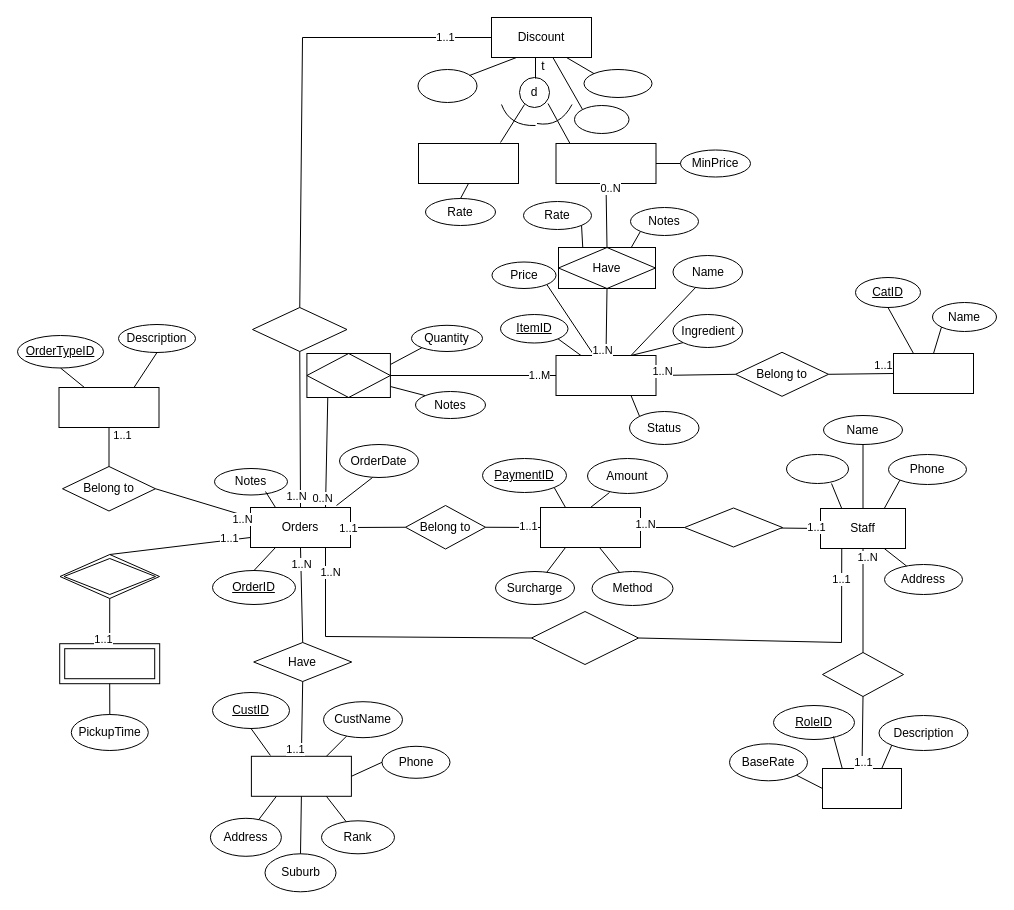
Some shapes in this 1014 by 910 pixel diagram are drawn without their labels. Each missing label, with the box of its shape:
Apply: (252, 306, 347, 352)
BillDiscount: (418, 142, 518, 184)
Booked by: (530, 610, 638, 664)
Category: (892, 352, 974, 394)
Customers: (250, 755, 351, 796)
DFrom: (583, 68, 652, 98)
DisID: (417, 68, 477, 102)
Dto: (574, 104, 629, 134)
Handled by: (684, 507, 782, 547)
has: (822, 652, 904, 696)
Include: (306, 352, 390, 398)
is it a: (59, 554, 160, 598)
ItemDiscount: (555, 142, 656, 184)
MenuItems: (555, 354, 656, 396)
OrderType: (58, 386, 159, 428)
Payment: (540, 506, 640, 548)
PreOrders: (59, 643, 160, 684)
Role: (822, 768, 902, 808)
StaffID: (786, 454, 848, 484)
